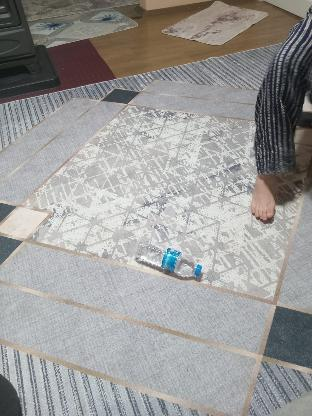Plastic Bottle: (133, 242, 201, 278)
